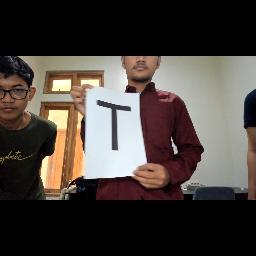t: (94, 98, 142, 156)
